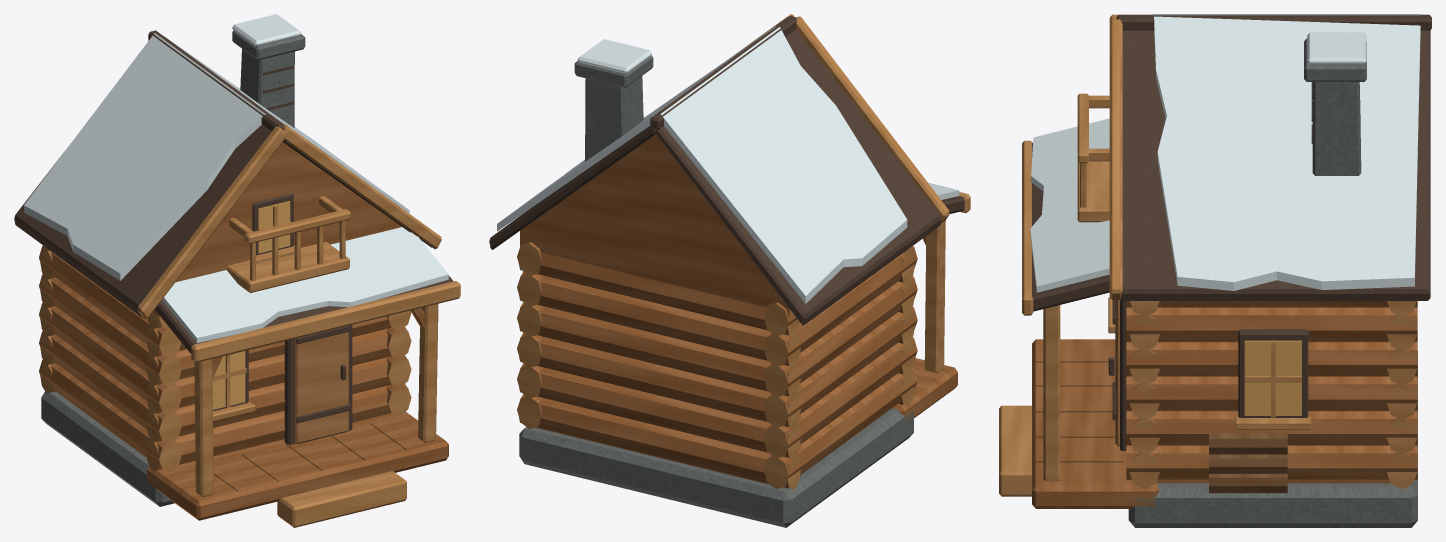
The model's file is Cabin_C_TallRetreat.fbx.
3 renders of one model, left to right at view 1: azimuth 30°, elevation 25°; view 2: azimuth 150°, elevation 25°; view 3: azimuth 270°, elevation 25°, orthographic. The views are drawn at different scales.
Parts seen in each view (by area): view 1: Cabin_C_TallRetreat; view 2: Cabin_C_TallRetreat; view 3: Cabin_C_TallRetreat.
Part boxes in pixels (bbox=[...]): Cabin_C_TallRetreat: bbox=[14, 14, 460, 527]; Cabin_C_TallRetreat: bbox=[489, 14, 970, 527]; Cabin_C_TallRetreat: bbox=[999, 14, 1431, 527].
Size of the model in its own units: 5.54 by 6.55 by 5.7.
